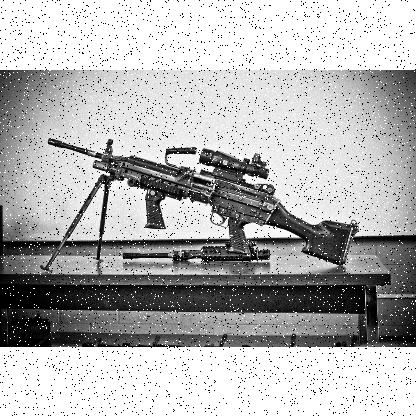gun: (40, 136, 358, 270)
